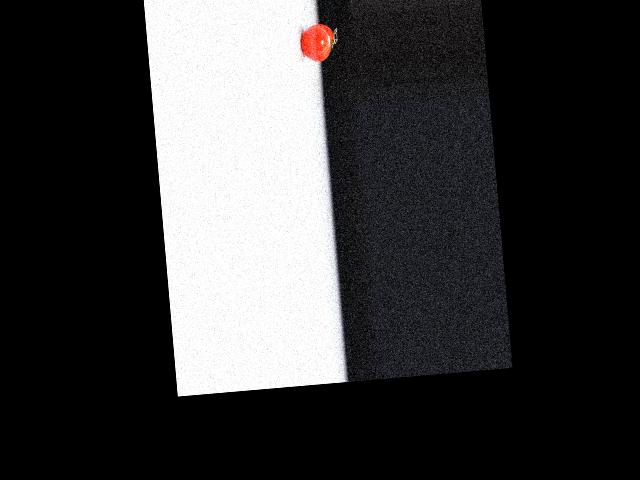tomato: (299, 23, 335, 63)
